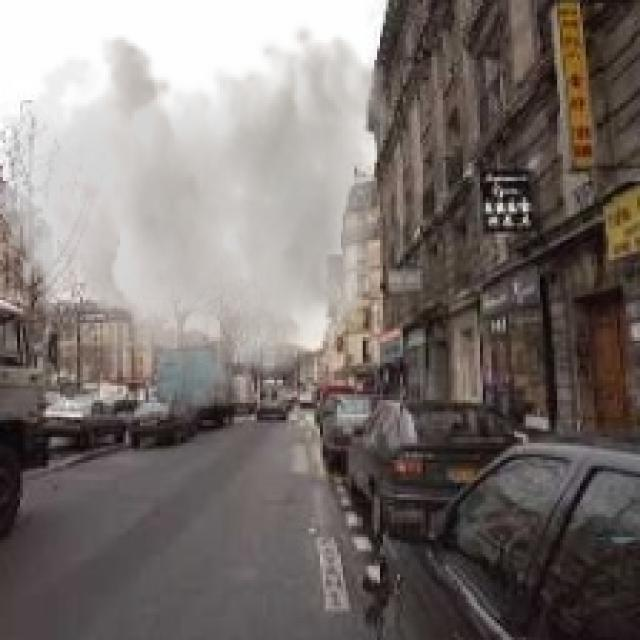smoke: (3, 20, 391, 429)
